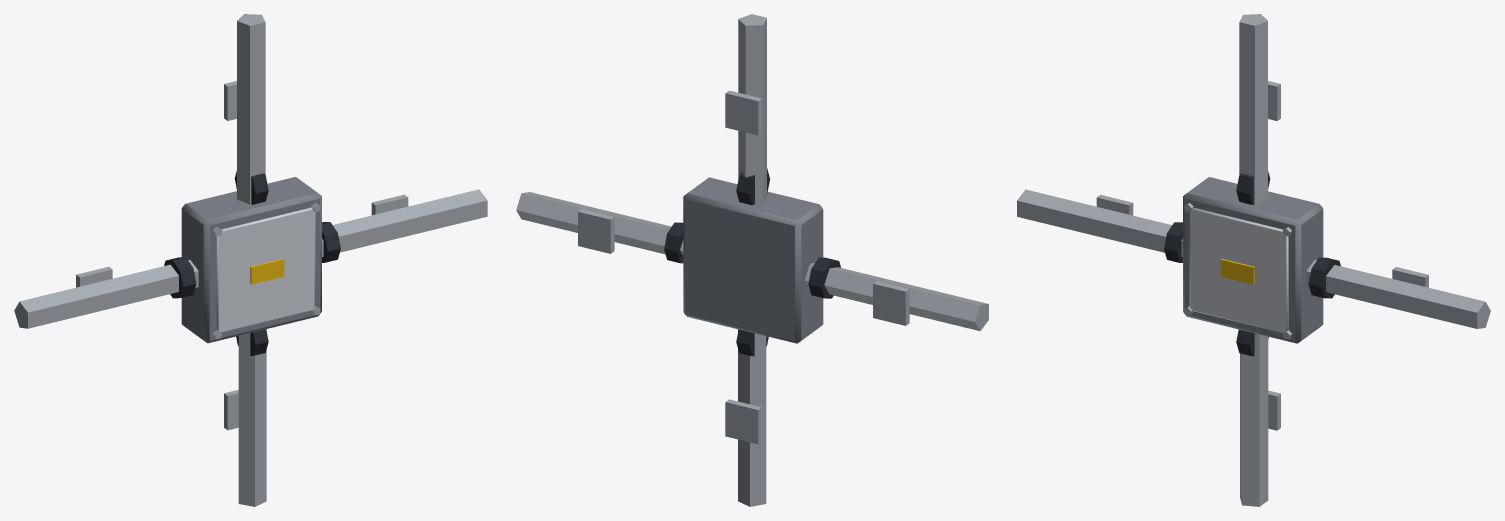
Rendered from junction_conduit_cluster.glb.
The picture shows the model from 3 angles, left to right: view 1: azimuth 30°, elevation 25°; view 2: azimuth 150°, elevation 25°; view 3: azimuth 330°, elevation 25°; orthographic projection.
Visible parts, largest first — view 1: junction_conduit_cluster; view 2: junction_conduit_cluster; view 3: junction_conduit_cluster.
Part boxes in pixels (bbox=[...]): junction_conduit_cluster: bbox=[14, 14, 487, 506]; junction_conduit_cluster: bbox=[516, 14, 988, 506]; junction_conduit_cluster: bbox=[1017, 14, 1490, 506].
Size of the model in its own units: 1.4 by 1.4 by 0.156.
